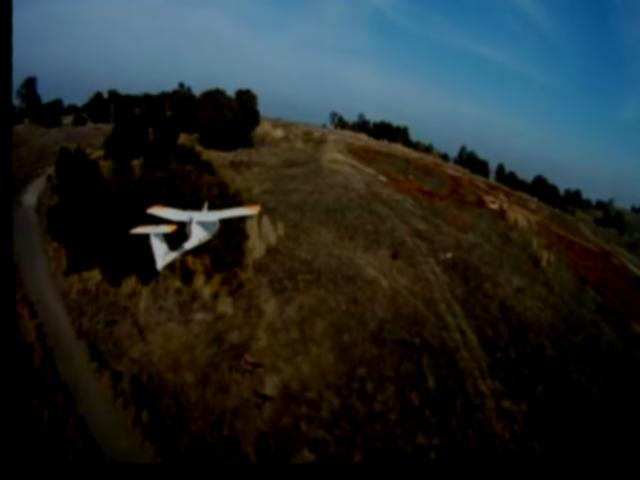uav: (121, 184, 268, 291)
